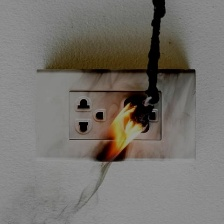three_eye_plug: (31, 65, 199, 164)
